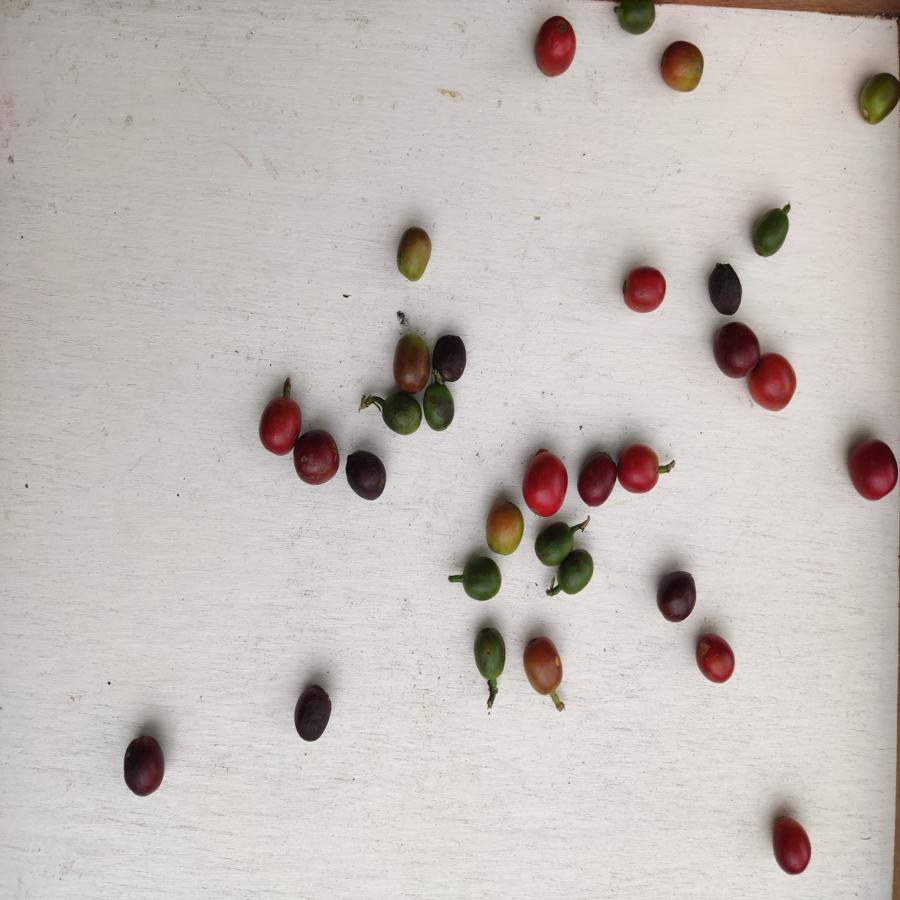Inmaduro: (469, 626, 507, 685), (751, 207, 793, 260), (377, 391, 424, 436), (533, 520, 575, 570), (555, 549, 597, 597), (460, 556, 503, 602), (421, 384, 459, 434), (616, 1, 659, 34)
Maduro: (520, 450, 570, 519), (848, 438, 898, 501), (690, 631, 737, 689), (533, 13, 576, 76), (768, 816, 813, 876), (753, 351, 796, 412), (258, 398, 300, 457), (615, 443, 664, 493), (621, 267, 668, 314)
Pinton: (522, 636, 564, 699), (659, 37, 706, 90), (394, 227, 436, 285), (393, 330, 428, 395), (855, 71, 899, 122), (486, 499, 523, 556)
Sobremaduro: (124, 733, 167, 796), (341, 447, 391, 501), (293, 428, 341, 484), (713, 323, 762, 376), (291, 685, 333, 744), (576, 451, 615, 509), (654, 571, 697, 623), (707, 260, 745, 316), (429, 333, 470, 382)
